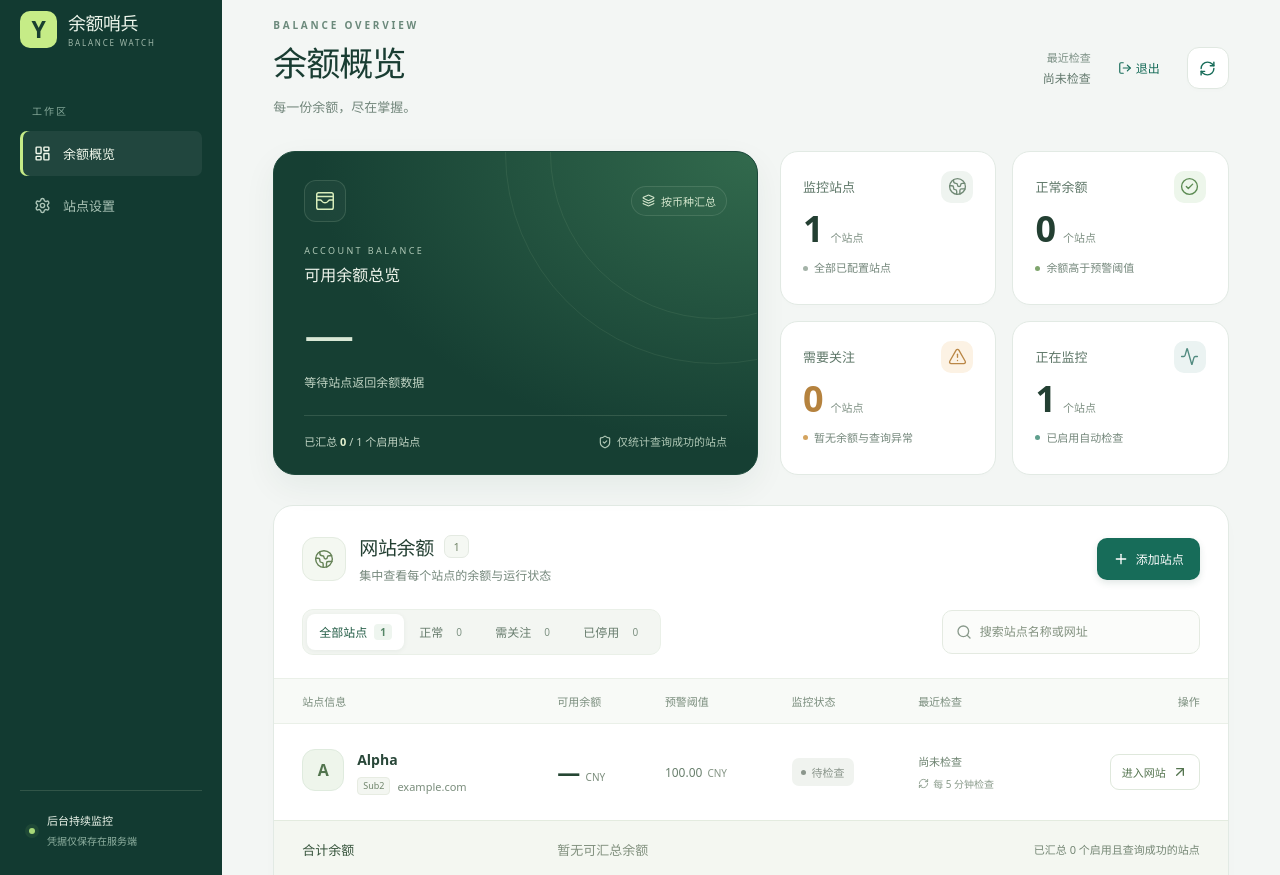
React 页面流程 › 同步余额时不会覆盖未保存的表单修改
Step 1. Click the button "Alpha" → (377, 759), box [357,749,398,770]
(page scrolled)
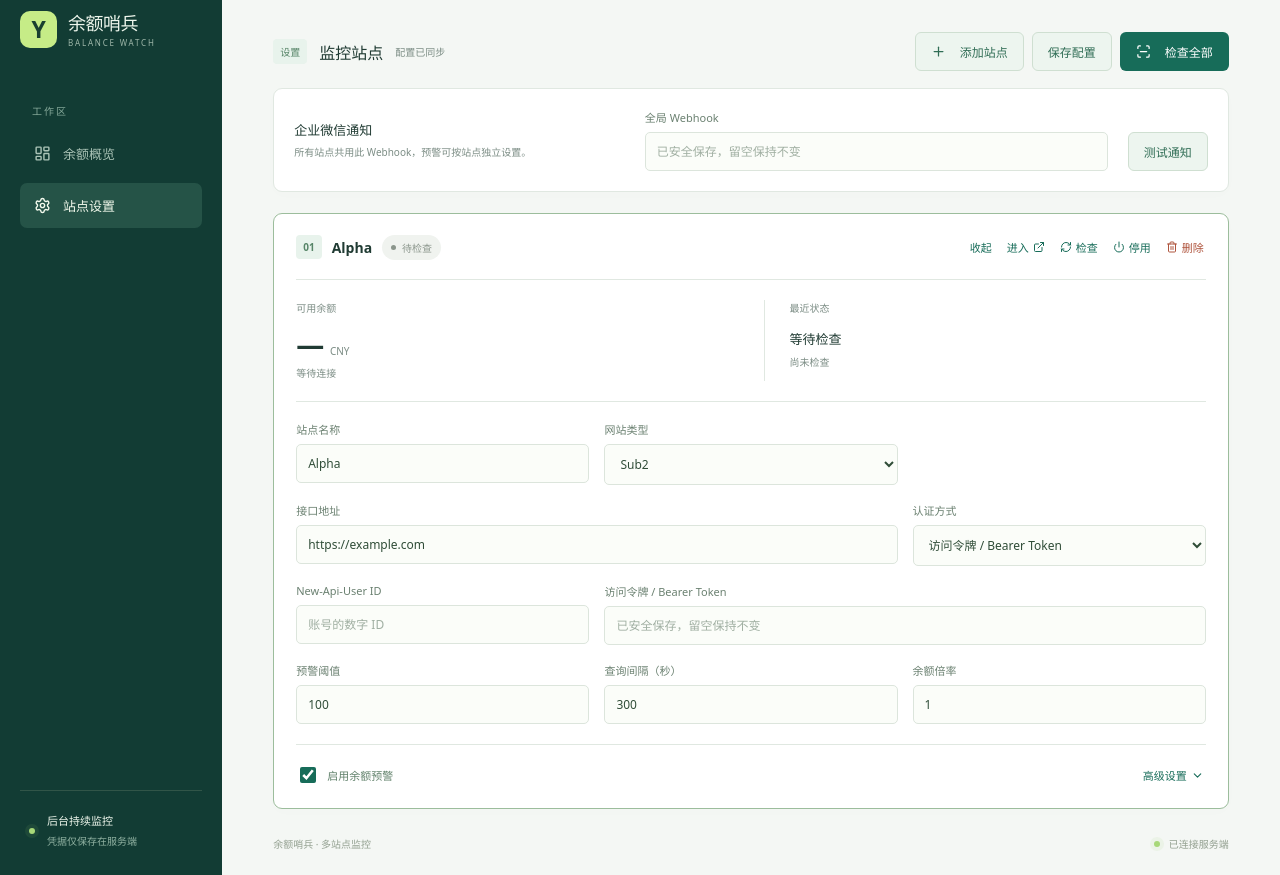
Step 2. Clear the field labelled "站点名称" → (443, 464), box [296,444,589,483]
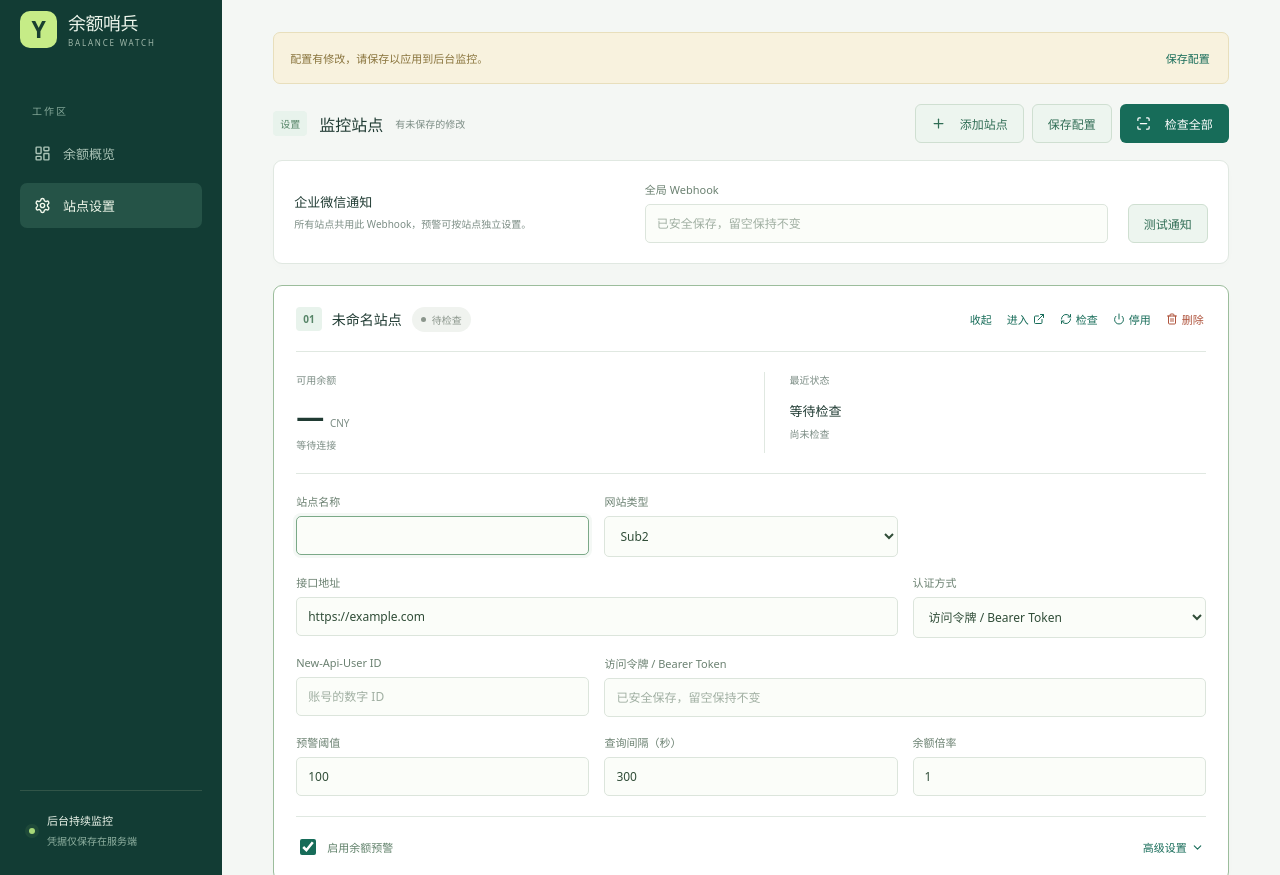
Step 3. Type "尚未保存" into the field labelled "站点名称" → (443, 536), box [296,516,589,555]
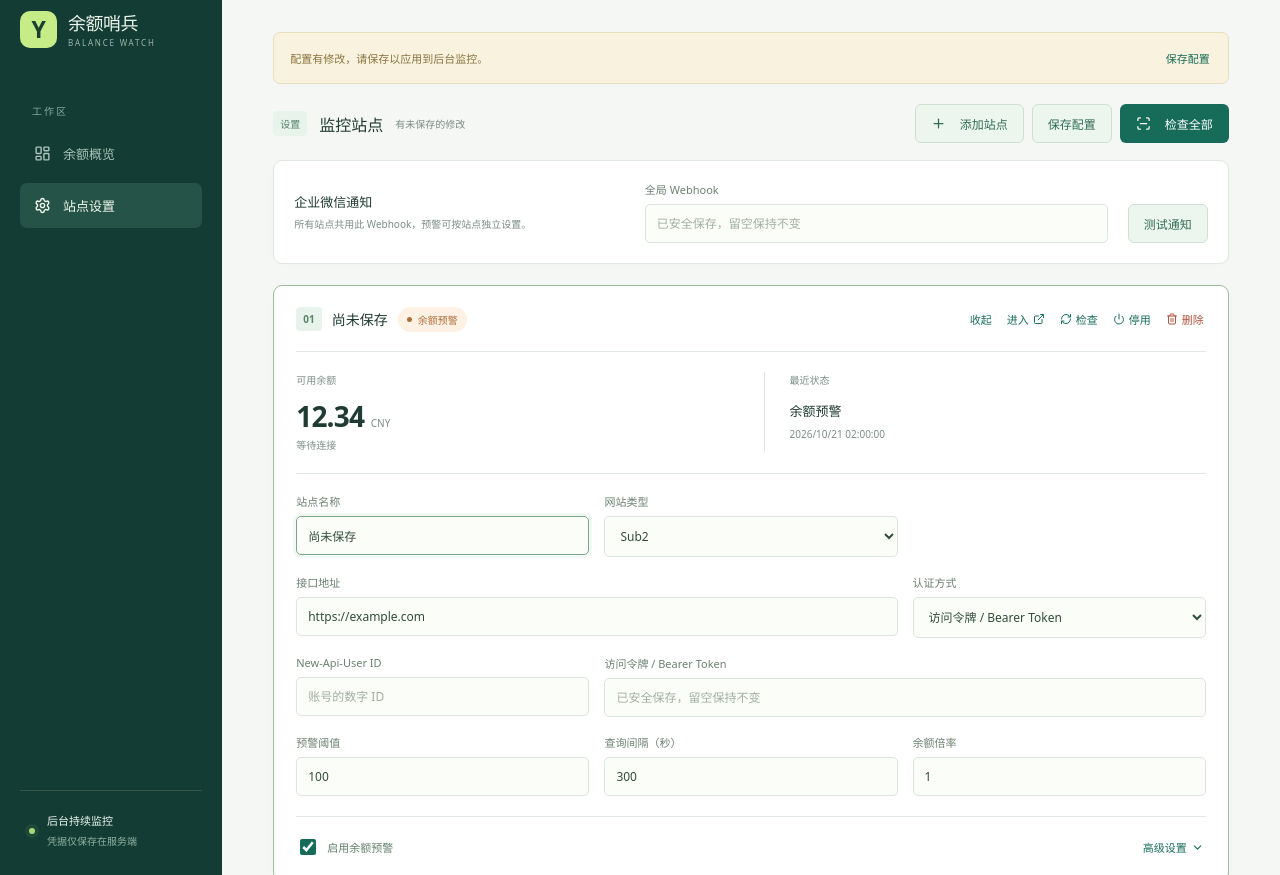
Result: the text "有未保存的修改" is shown at [395,116,465,132]
Result: the text "12.34" is shown at [296,397,364,435]
